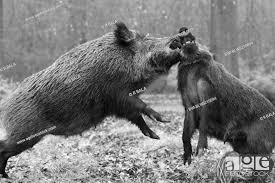wildboar: (0, 17, 182, 179), (175, 25, 275, 183)
